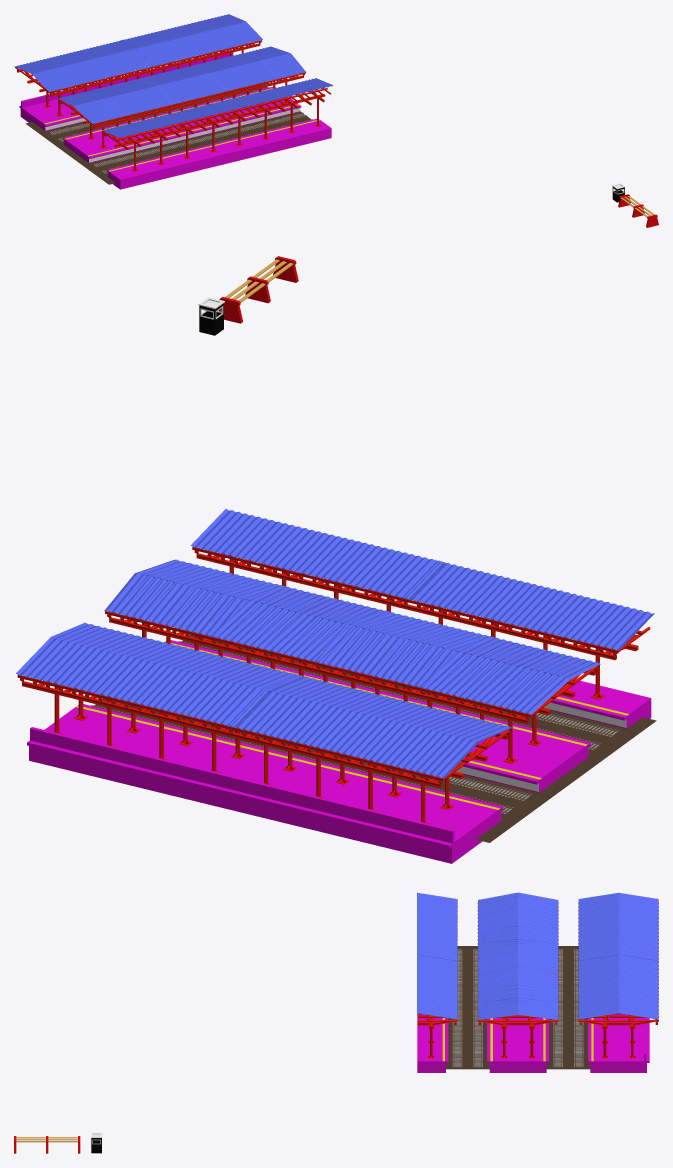
File: Mainmenu.fbx
3 views of the same model, one above another, from view 1: azimuth 30°, elevation 25°; view 2: azimuth 150°, elevation 25°; view 3: azimuth 270°, elevation 25° (orthographic). The views are drawn at different scales.
Visible parts, largest first — view 1: Stasiun.001, Plane, Cube.001; view 2: Stasiun.001, Plane, Cube.001, TempatSampah; view 3: Stasiun.001, Plane, Cube.001.
Part boxes in pixels (x1,y1,x2,y2): Stasiun.001: (14, 14, 332, 189); Plane: (25, 84, 311, 184); Cube.001: (618, 194, 658, 227); Stasiun.001: (16, 508, 654, 863); Plane: (94, 632, 656, 842); Cube.001: (218, 256, 298, 323); TempatSampah: (198, 297, 224, 335); Stasiun.001: (417, 892, 658, 1072); Plane: (427, 946, 619, 1069); Cube.001: (14, 1136, 80, 1153).
Bounding box in the file's own units: 11681 × 1584 × 15287.
